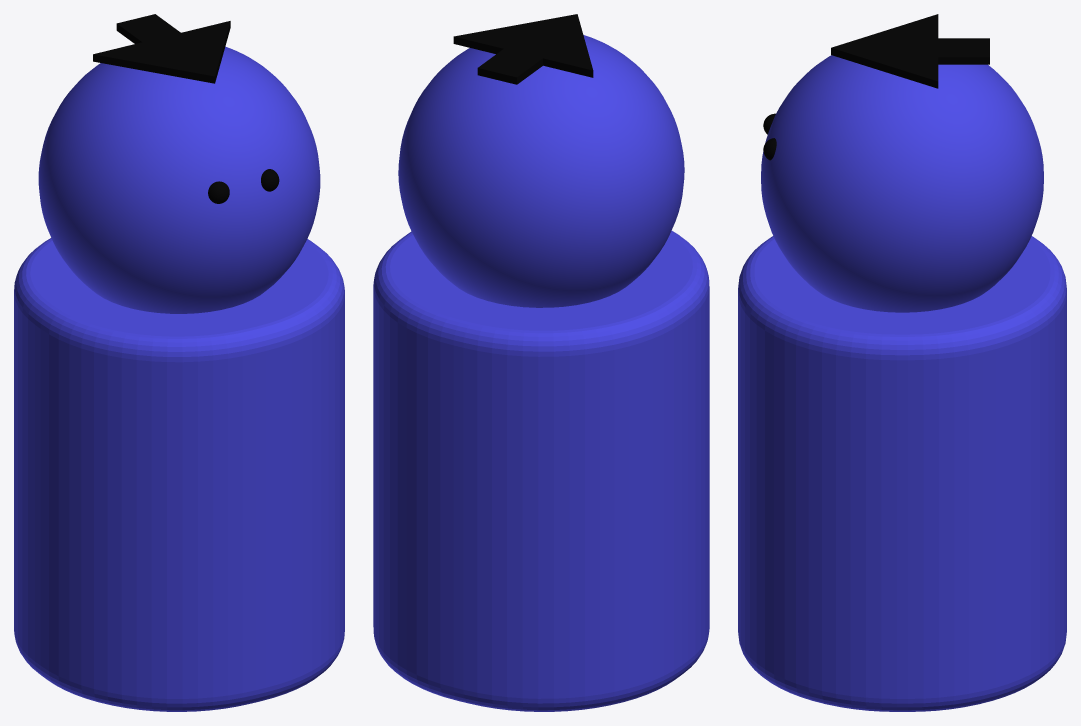
File: 4purple.obj
The picture shows the model from 3 angles, left to right: view 1: azimuth 30°, elevation 25°; view 2: azimuth 150°, elevation 25°; view 3: azimuth 270°, elevation 25°; orthographic projection.
Visible parts, largest first — view 1: Cube.004_Cube.015; view 2: Cube.004_Cube.015; view 3: Cube.004_Cube.015.
Part boxes in pixels (x1,y1,x2,y2): Cube.004_Cube.015: (14,14,344,711); Cube.004_Cube.015: (373,14,709,711); Cube.004_Cube.015: (738,14,1066,711).
Bounding box in the file's own units: 0.2392 × 0.4819 × 0.2392.
